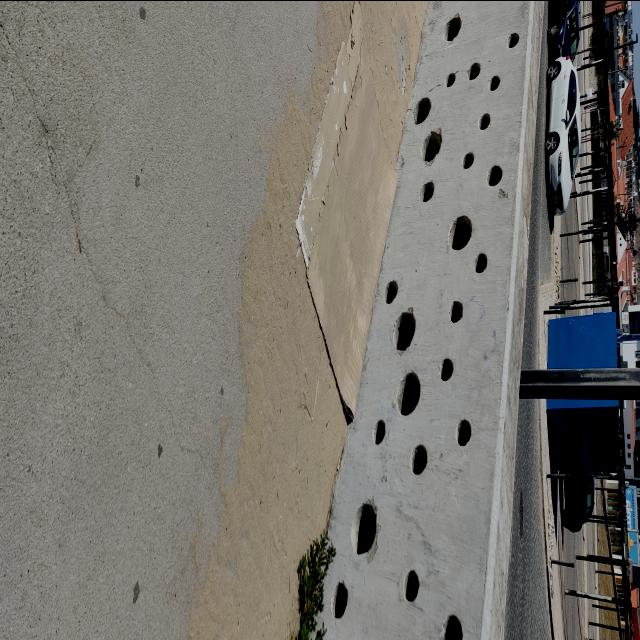Cigarette: (337, 456, 340, 471)
Corrugated carton: (295, 0, 399, 419)
